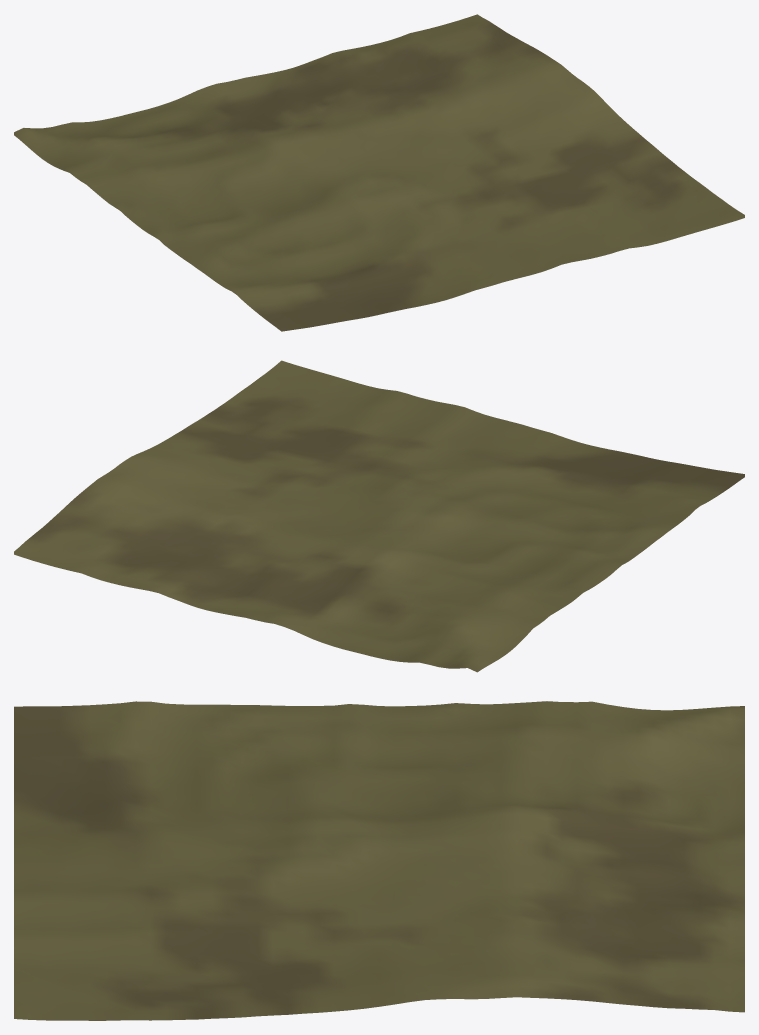
Rendered from land_m_04_03.glb.
The picture shows the model from 3 angles, top to bottom: view 1: azimuth 30°, elevation 25°; view 2: azimuth 150°, elevation 25°; view 3: azimuth 270°, elevation 25°; orthographic projection. The views are drawn at different scales.
Parts seen in each view (by area): view 1: land_m_04_03; view 2: land_m_04_03; view 3: land_m_04_03.
Part boxes in pixels (x1=…): land_m_04_03: x1=14, y1=14, x2=744, y2=331; land_m_04_03: x1=14, y1=360, x2=744, y2=672; land_m_04_03: x1=14, y1=701, x2=744, y2=1020.
Size of the model in its own units: 960 by 58.05 by 960.
